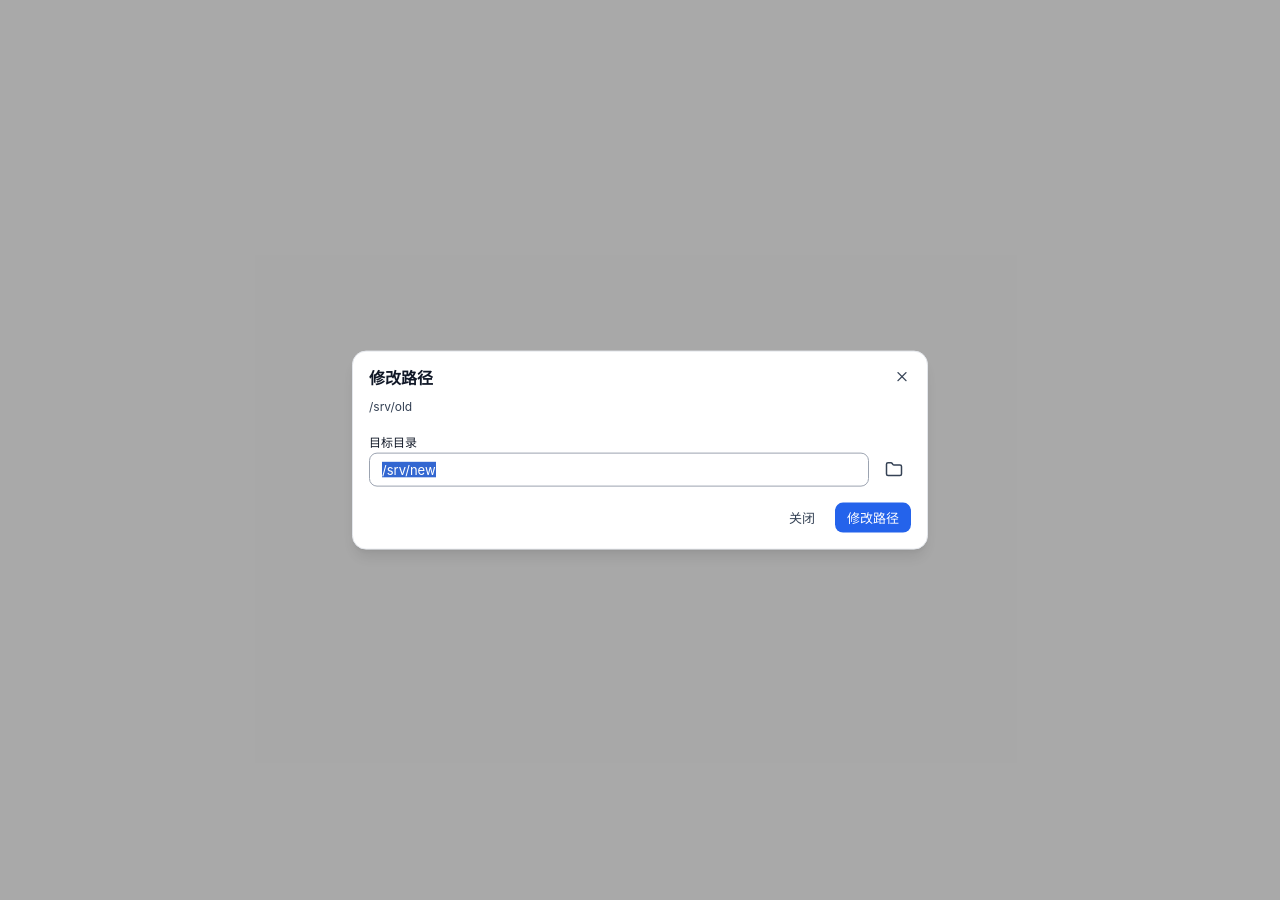
Test: 二次确认才搬迁，网络错误重查原句柄并展示旧位置残留
Click the button "修改路径". click: coordinates (873, 517)
box: [835,502,911,532]
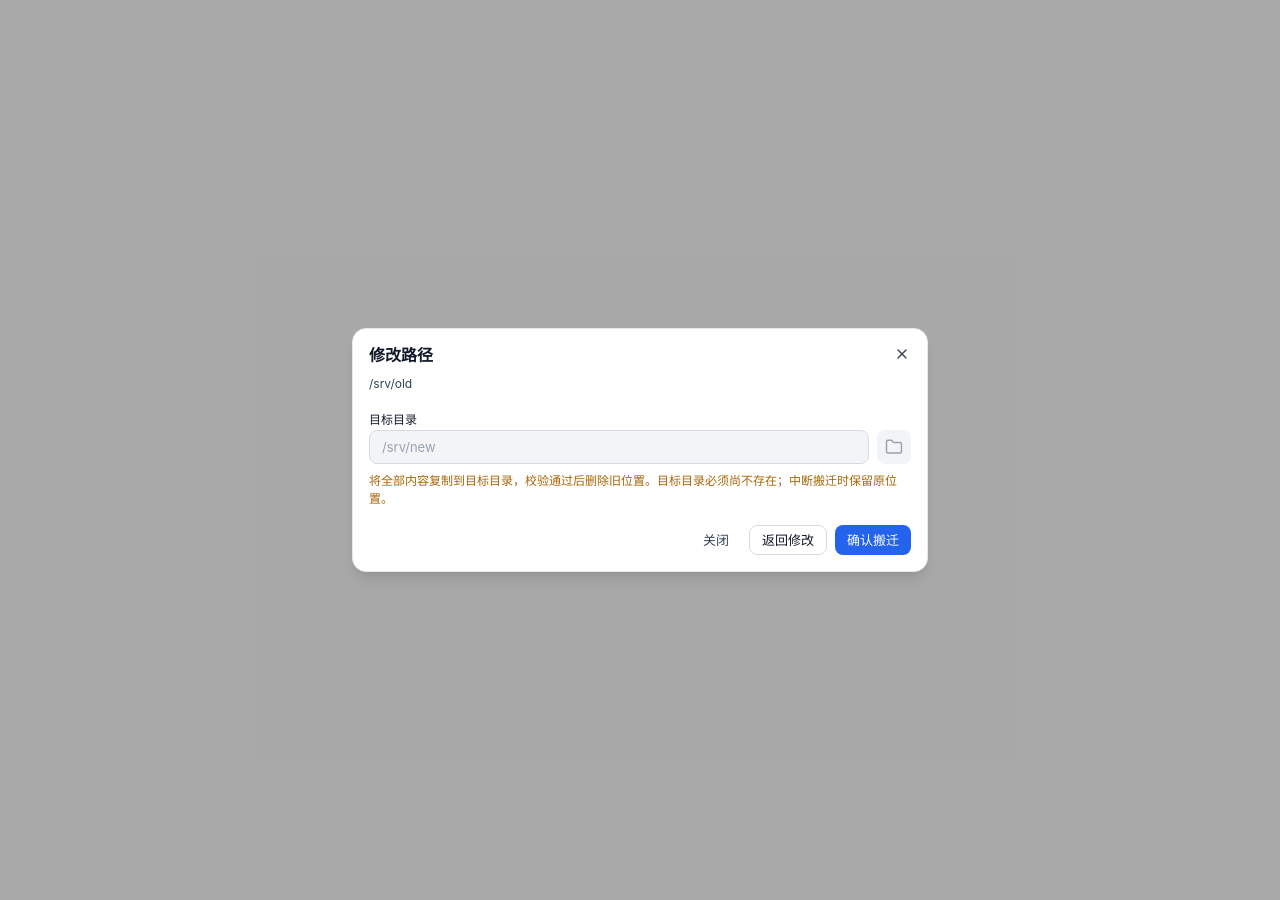
Click the button "确认搬迁". click: coordinates (873, 540)
box: [835,525,911,555]
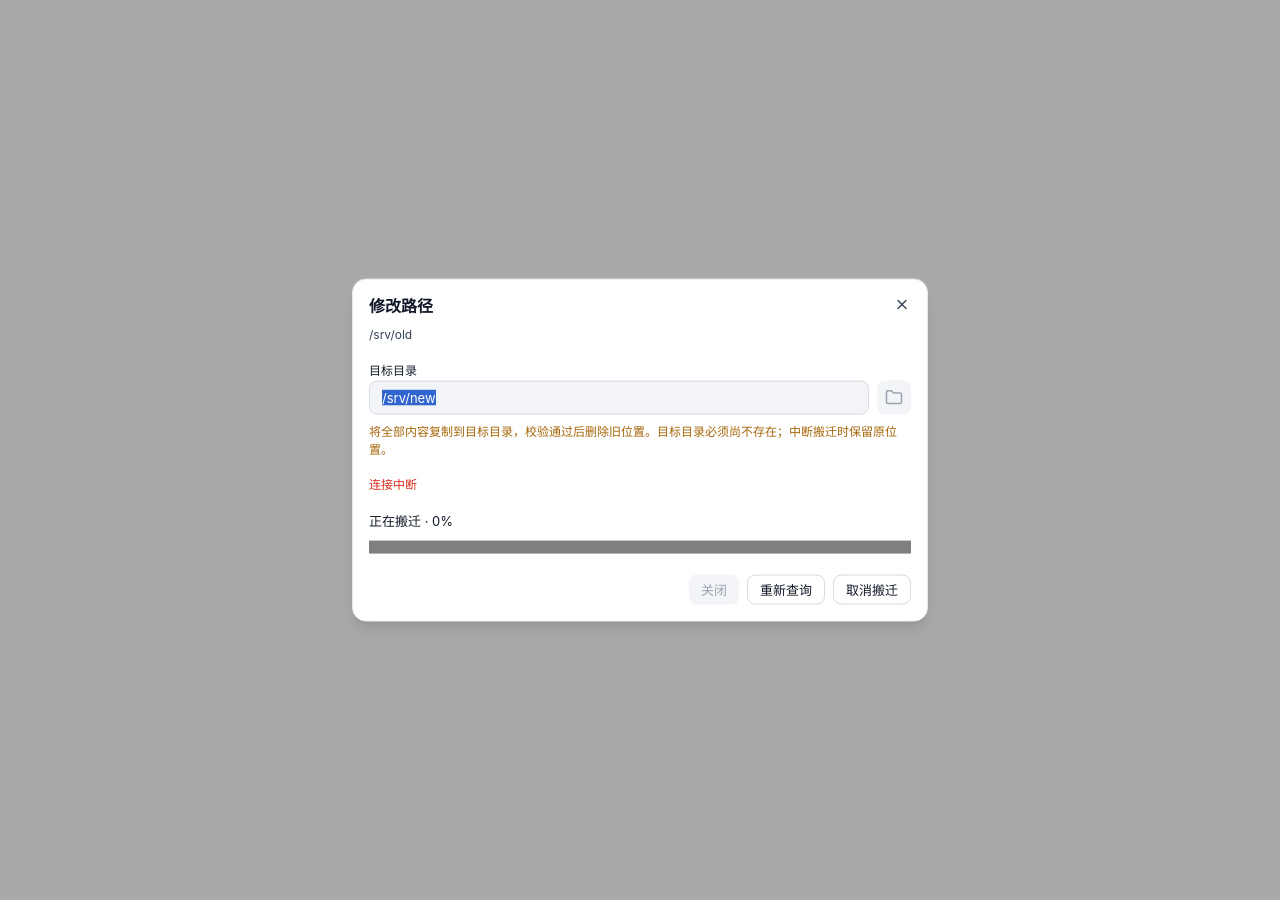
Now the message "连接中断" is shown, box [369,476,417,492]
Click the button "重新查询". click: coordinates (786, 589)
box: [747,574,825,604]
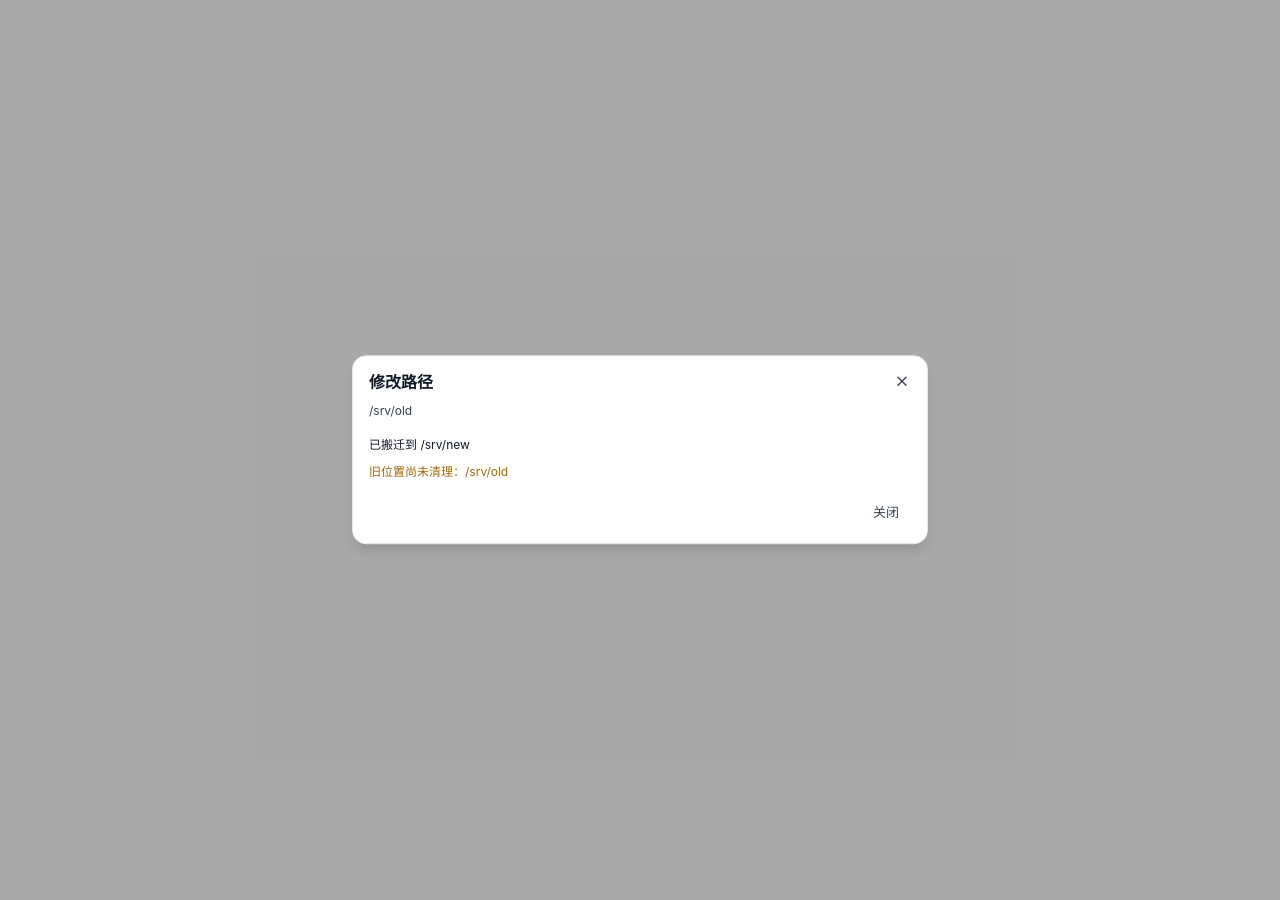
Now the text "旧位置尚未清理：/srv/old" is shown, box [369,464,508,479]
